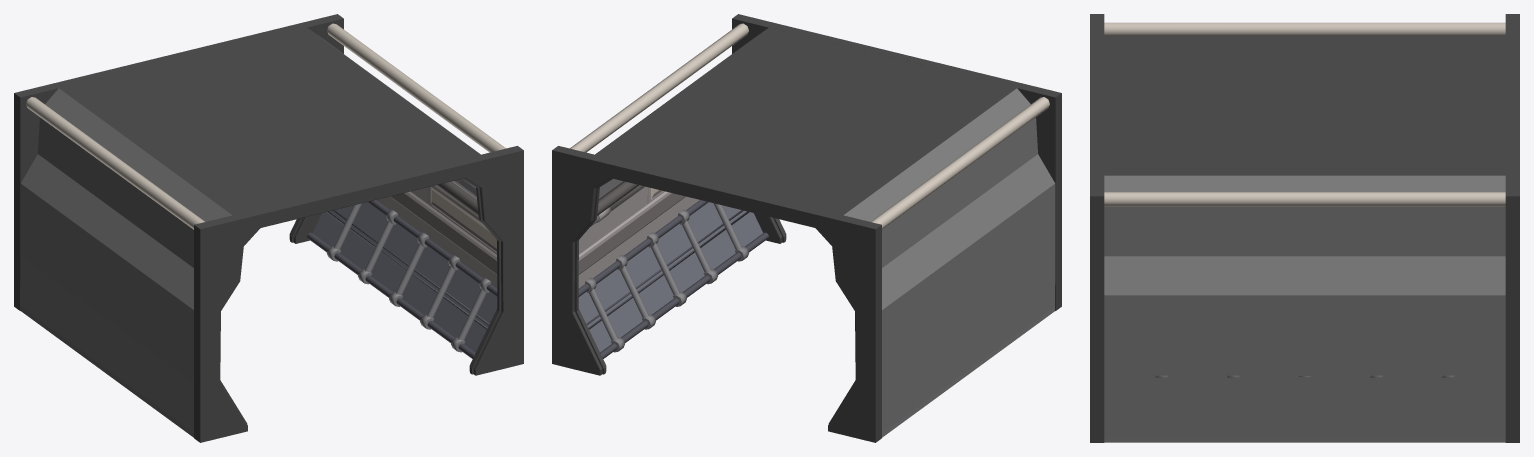
Rendered from Hallway_Module_Straight_01.glb.
The picture shows the model from 3 angles, left to right: view 1: azimuth 30°, elevation 25°; view 2: azimuth 150°, elevation 25°; view 3: azimuth 270°, elevation 25°; orthographic projection. The views are drawn at different scales.
Visible parts, largest first — view 1: Hallway_Module_Straight_01; view 2: Hallway_Module_Straight_01; view 3: Hallway_Module_Straight_01.
Part boxes in pixels (<box>): Hallway_Module_Straight_01: <box>14,14,523,442</box>; Hallway_Module_Straight_01: <box>552,14,1061,442</box>; Hallway_Module_Straight_01: <box>1090,14,1519,442</box>.
Size of what is drawn, in the model's own units: 6.02 by 3.82 by 6.
1 material, 1 textured.
